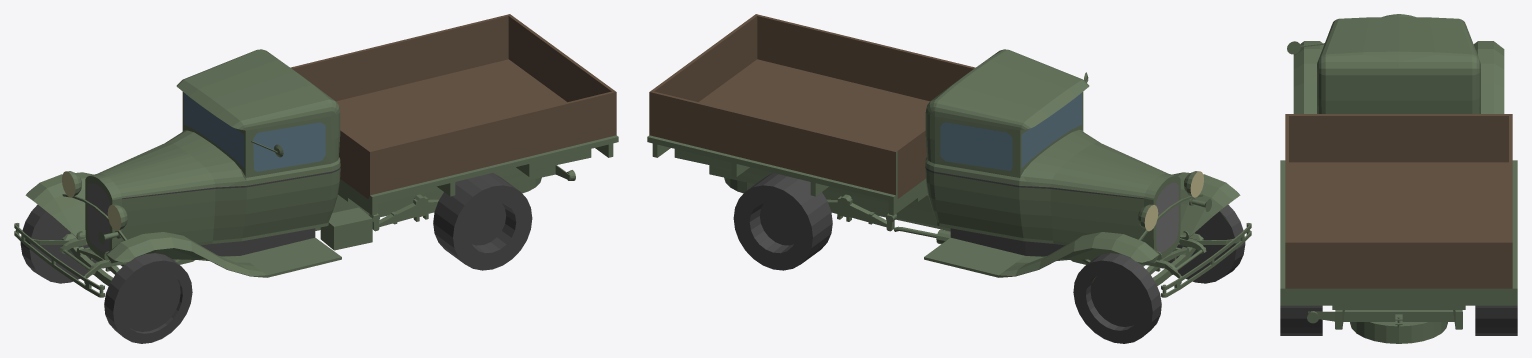
The model's file is gaz aa.gltf.
3 renders of one model, left to right at view 1: azimuth 30°, elevation 25°; view 2: azimuth 150°, elevation 25°; view 3: azimuth 270°, elevation 25°, orthographic. The views are drawn at different scales.
Parts seen in each view (by area): view 1: GAZ-AA_box OBJ; view 2: GAZ-AA_box OBJ; view 3: GAZ-AA_box OBJ.
Boxes of the visible parts, box(x1,y1,x2,y2) form: GAZ-AA_box OBJ: box(14, 14, 618, 343); GAZ-AA_box OBJ: box(647, 14, 1251, 343); GAZ-AA_box OBJ: box(1280, 14, 1517, 343).
Bounding box in the file's own units: 42.83 × 15.41 × 16.15.
